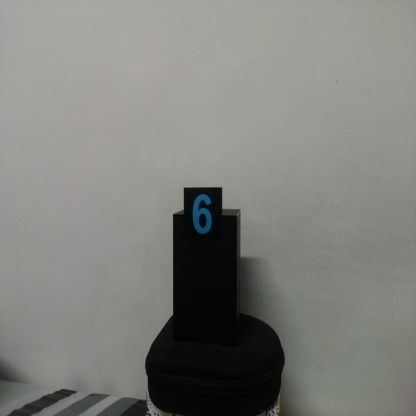id_6: (184, 187, 223, 252)
